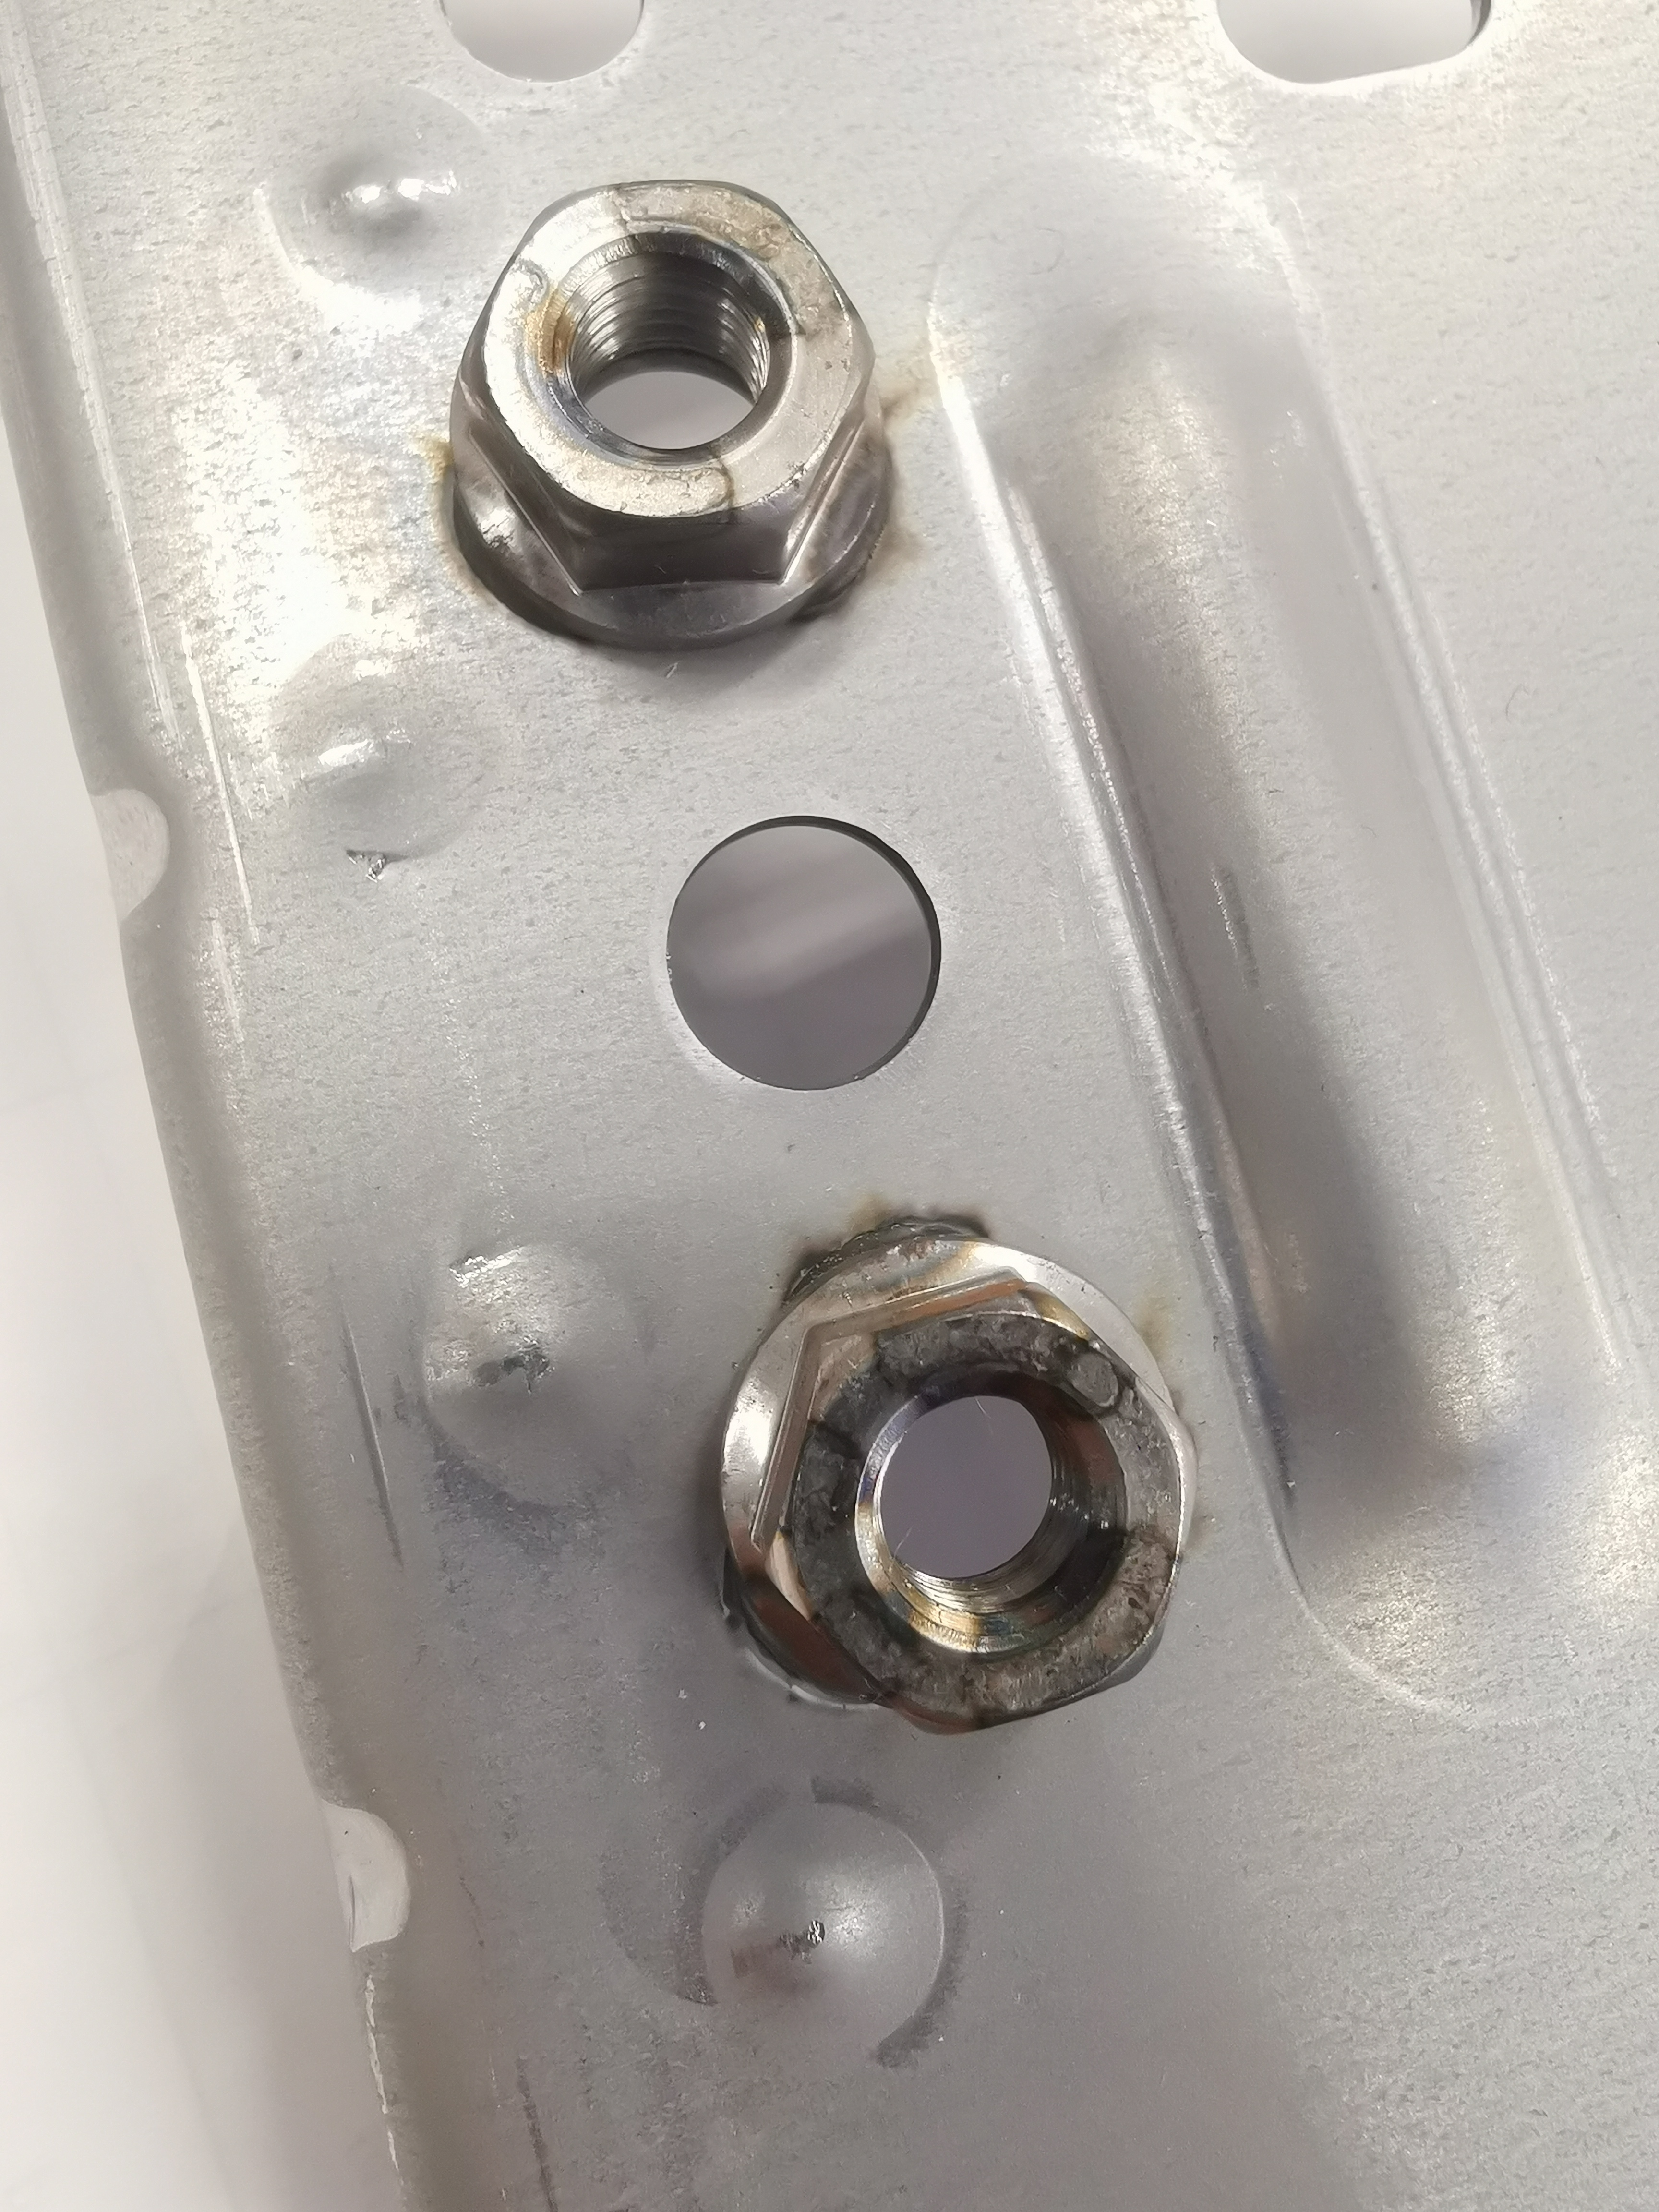dog: (709, 1197, 1206, 1752), (441, 169, 901, 662)
